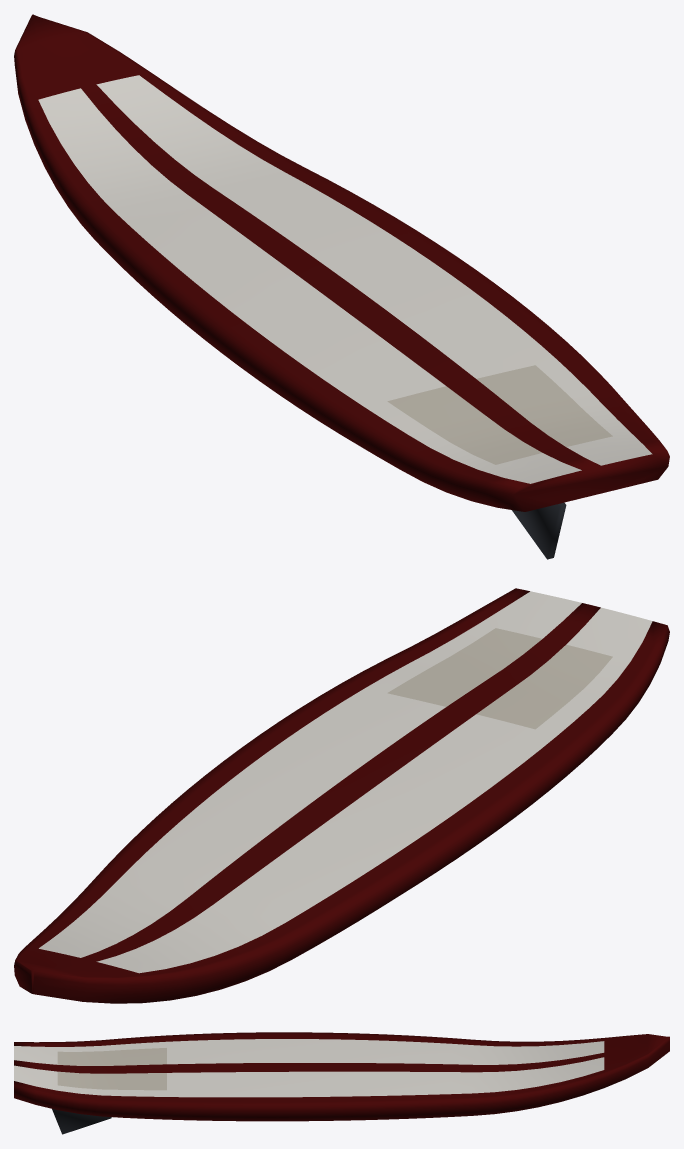
The model's file is Runner_Board.glb.
3 views of the same model, one above another, from view 1: azimuth 30°, elevation 25°; view 2: azimuth 150°, elevation 25°; view 3: azimuth 270°, elevation 25° (orthographic). The views are drawn at different scales.
Visible parts, largest first — view 1: Runner_Board; view 2: Runner_Board; view 3: Runner_Board.
Boxes of the visible parts, x1,y1,x2,y2 form: Runner_Board: [14, 14, 669, 559]; Runner_Board: [14, 588, 669, 1003]; Runner_Board: [14, 1032, 669, 1134].
Bounding box in the file's own units: 0.54 × 0.3263 × 2.
